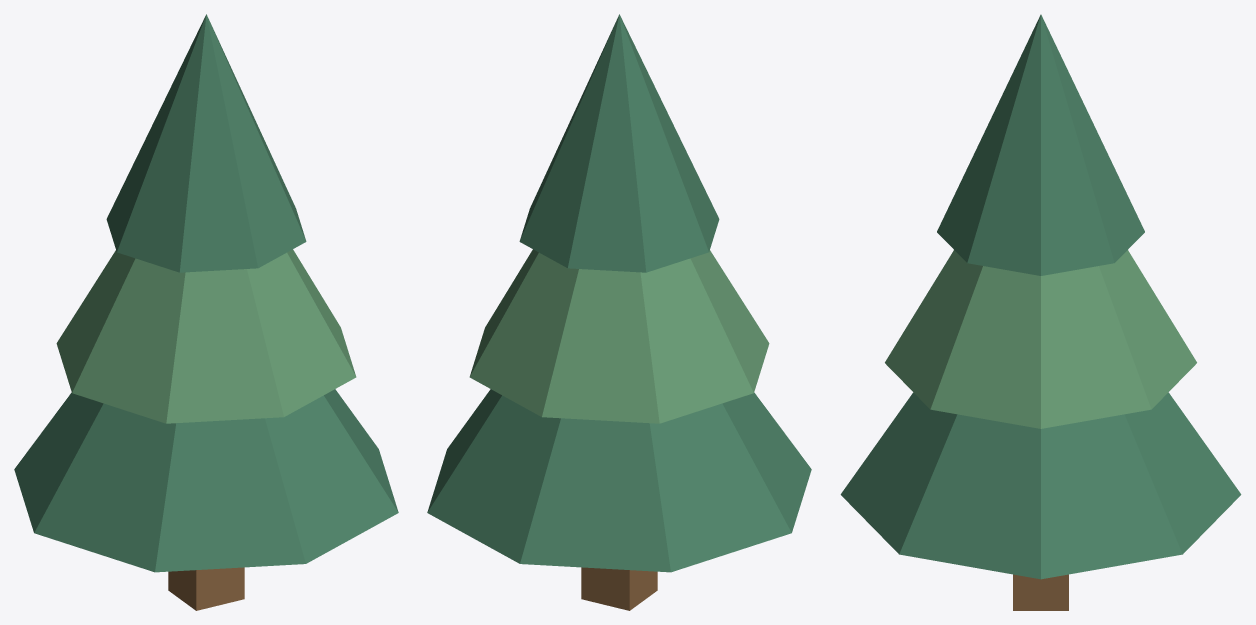
Rendered from pine_tree.glb.
3 renders of one model, left to right at view 1: azimuth 30°, elevation 25°; view 2: azimuth 150°, elevation 25°; view 3: azimuth 270°, elevation 25°, orthographic.
Parts seen in each view (by area): view 1: pine_tree; view 2: pine_tree; view 3: pine_tree.
Boxes of the visible parts, bbox=[...] form: pine_tree: bbox=[14, 14, 398, 610]; pine_tree: bbox=[427, 14, 811, 610]; pine_tree: bbox=[840, 14, 1241, 610].
Size of the model in its own units: 2 by 3.22 by 2.
Materials: 3 (3 with a texture image).
